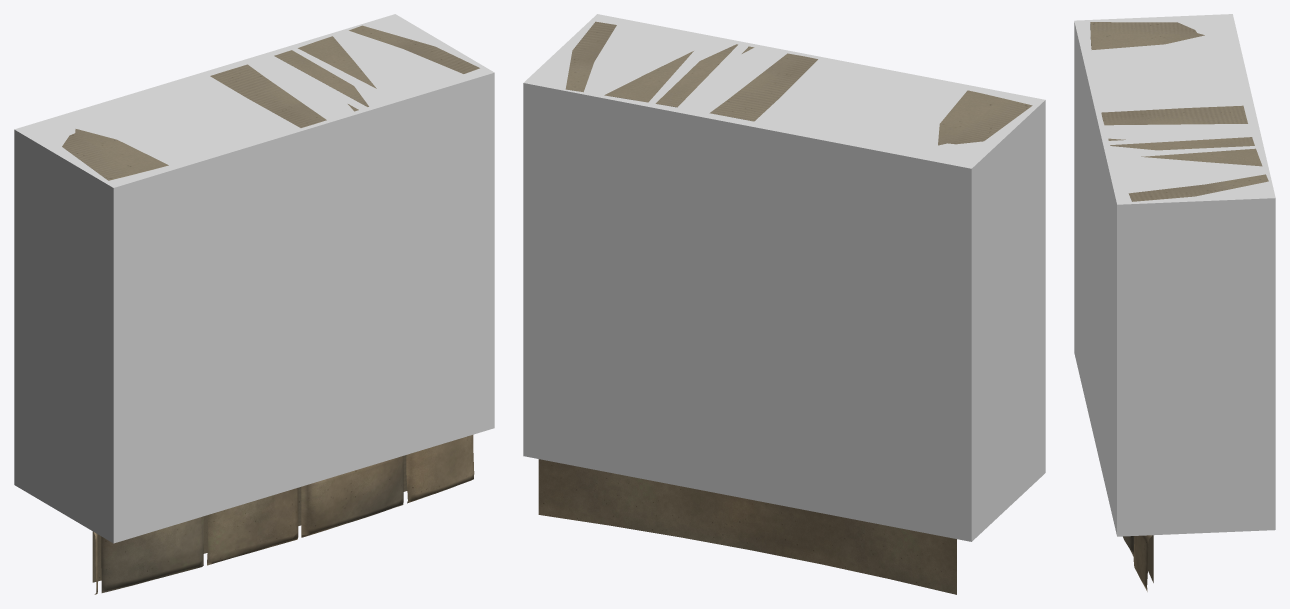
Rendered from retaining_wall_pad_curve.gltf.
The picture shows the model from 3 angles, left to right: view 1: azimuth 30°, elevation 25°; view 2: azimuth 150°, elevation 25°; view 3: azimuth 270°, elevation 25°; orthographic projection. The views are drawn at different scales.
Visible parts, largest first — view 1: retaining_wall_pad_curve_col, retaining_wall_pad_curve_LOD0; view 2: retaining_wall_pad_curve_col, retaining_wall_pad_curve_LOD0; view 3: retaining_wall_pad_curve_col, retaining_wall_pad_curve_LOD0.
Part boxes in pixels (x1,y1,x2,y2): retaining_wall_pad_curve_col: [14, 14, 494, 543]; retaining_wall_pad_curve_LOD0: [62, 25, 479, 594]; retaining_wall_pad_curve_col: [523, 14, 1045, 541]; retaining_wall_pad_curve_LOD0: [538, 21, 1032, 594]; retaining_wall_pad_curve_col: [1074, 14, 1275, 536]; retaining_wall_pad_curve_LOD0: [1090, 22, 1268, 591].
Size of what is drawn, in the model's own units: 1.64 by 1.58 by 0.7317.
3 materials, 3 textured.
